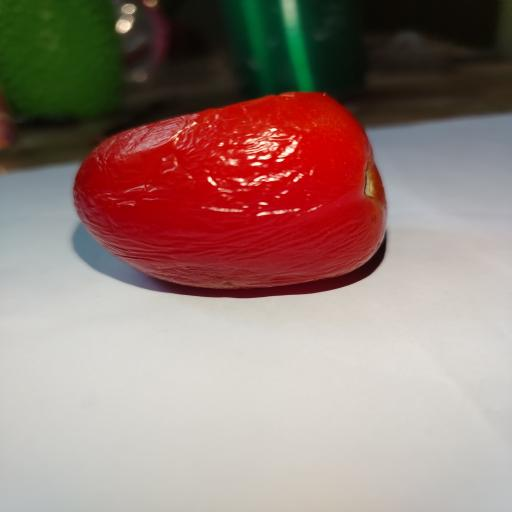spoiled: (74, 92, 387, 289)
